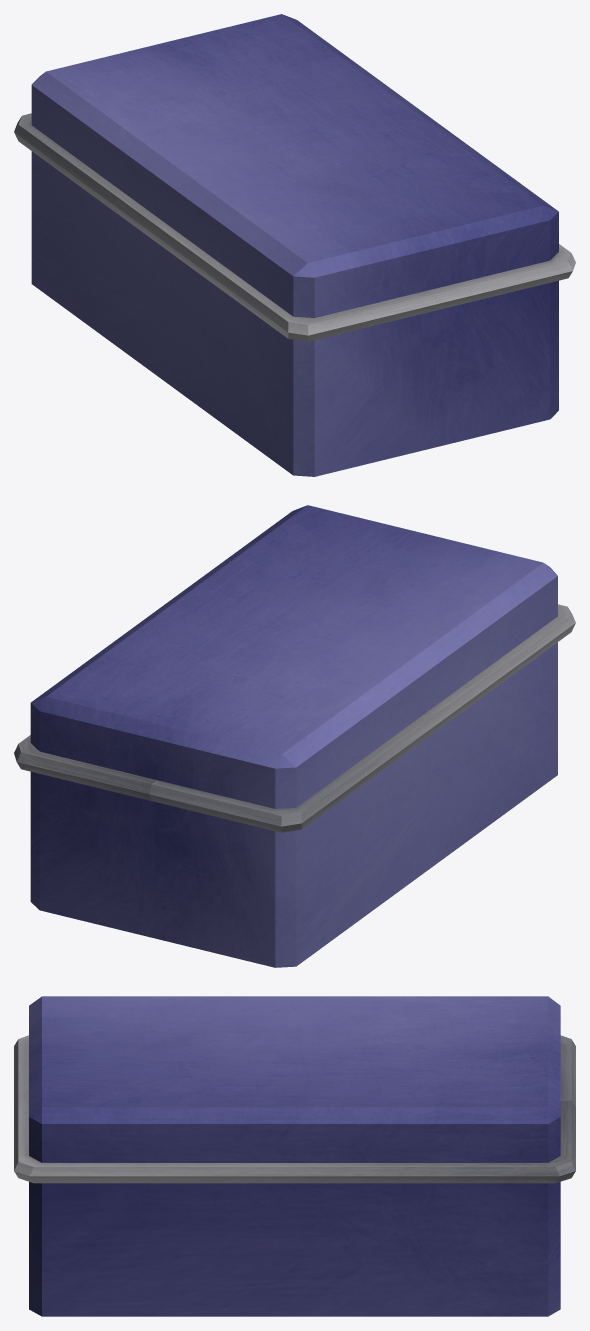
The model's file is StorageTin.fbx.
The picture shows the model from 3 angles, top to bottom: view 1: azimuth 30°, elevation 25°; view 2: azimuth 150°, elevation 25°; view 3: azimuth 270°, elevation 25°; orthographic projection. The views are drawn at different scales.
Visible parts, largest first — view 1: Cube; view 2: Cube; view 3: Cube.
Part boxes in pixels (x1,y1,x2,y2): Cube: (14,14,575,476); Cube: (14,505,575,967); Cube: (14,996,575,1316).
Size of the model in its own units: 217 by 150 by 379.
1 material, 1 textured.
